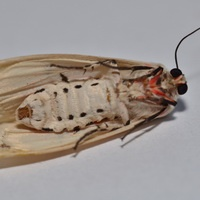insect: (0, 54, 186, 167)
